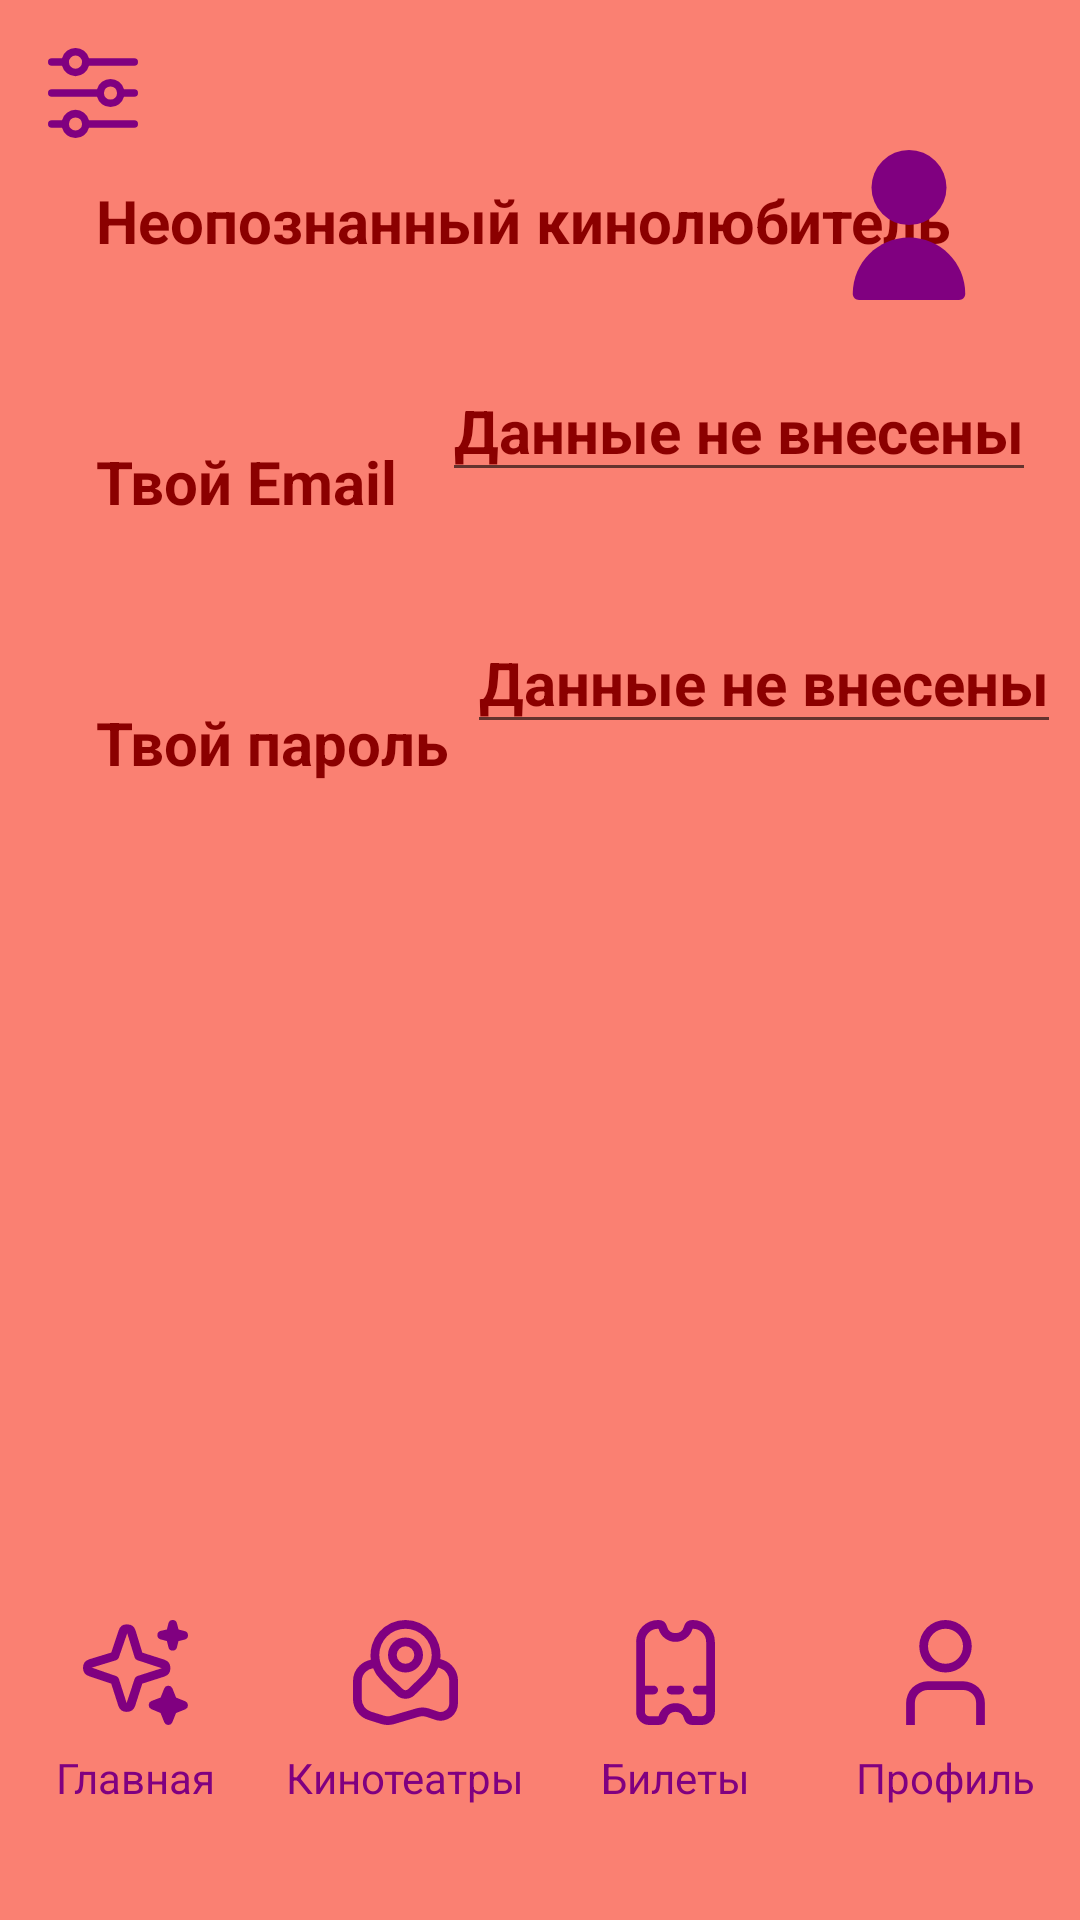

Point at icon controls on the screen. Image size 1080×1920, points as (x,y).
free font map marker: (405,1672)
free font settings sliders: (93,93)
free font sparkles: (135,1672)
free font user: (909,225), (945,1672)
